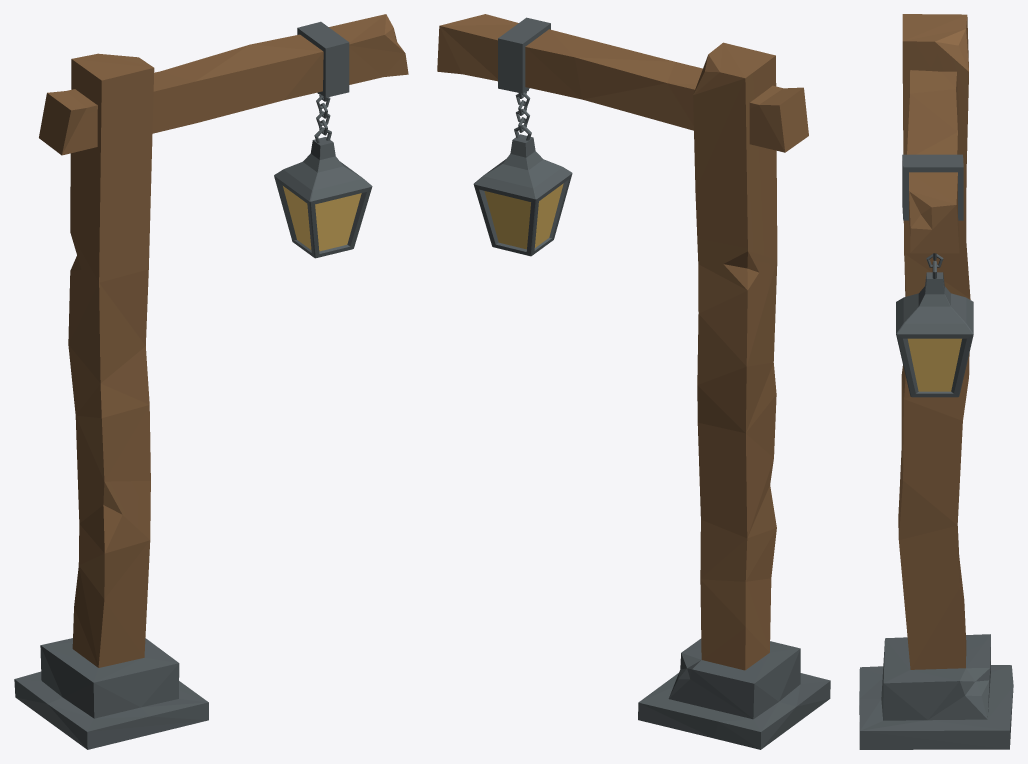
The model's file is Lantern_01.fbx.
3 views of the same model, side by side, from view 1: azimuth 30°, elevation 25°; view 2: azimuth 150°, elevation 25°; view 3: azimuth 270°, elevation 25° (orthographic). The views are drawn at different scales.
Visible parts, largest first — view 1: Lantern_01; view 2: Lantern_01; view 3: Lantern_01.
Part boxes in pixels (x1,y1,x2,y2): Lantern_01: (14, 14, 408, 749); Lantern_01: (437, 14, 830, 749); Lantern_01: (859, 14, 1013, 749).
Bounding box in the file's own units: 138 × 244 × 49.46.
